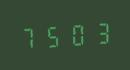five: (41, 21, 63, 50)
seven: (18, 23, 40, 51)
three: (87, 18, 109, 46)
zero: (64, 20, 86, 48)
